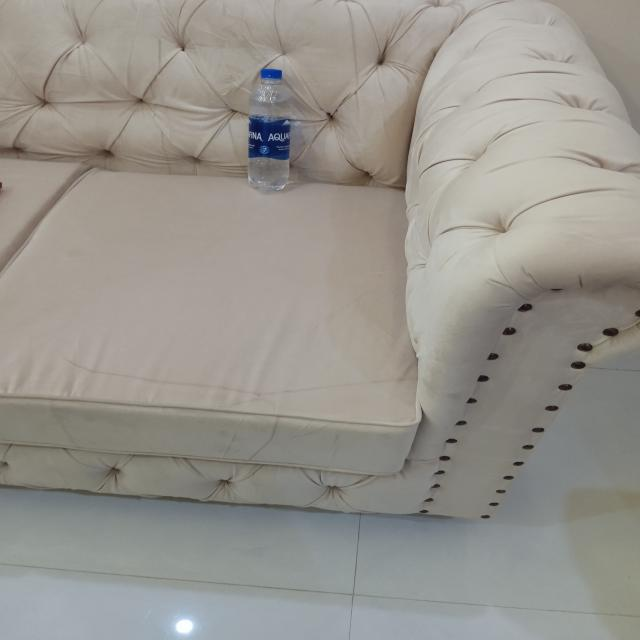Plastic: (248, 66, 294, 188)
